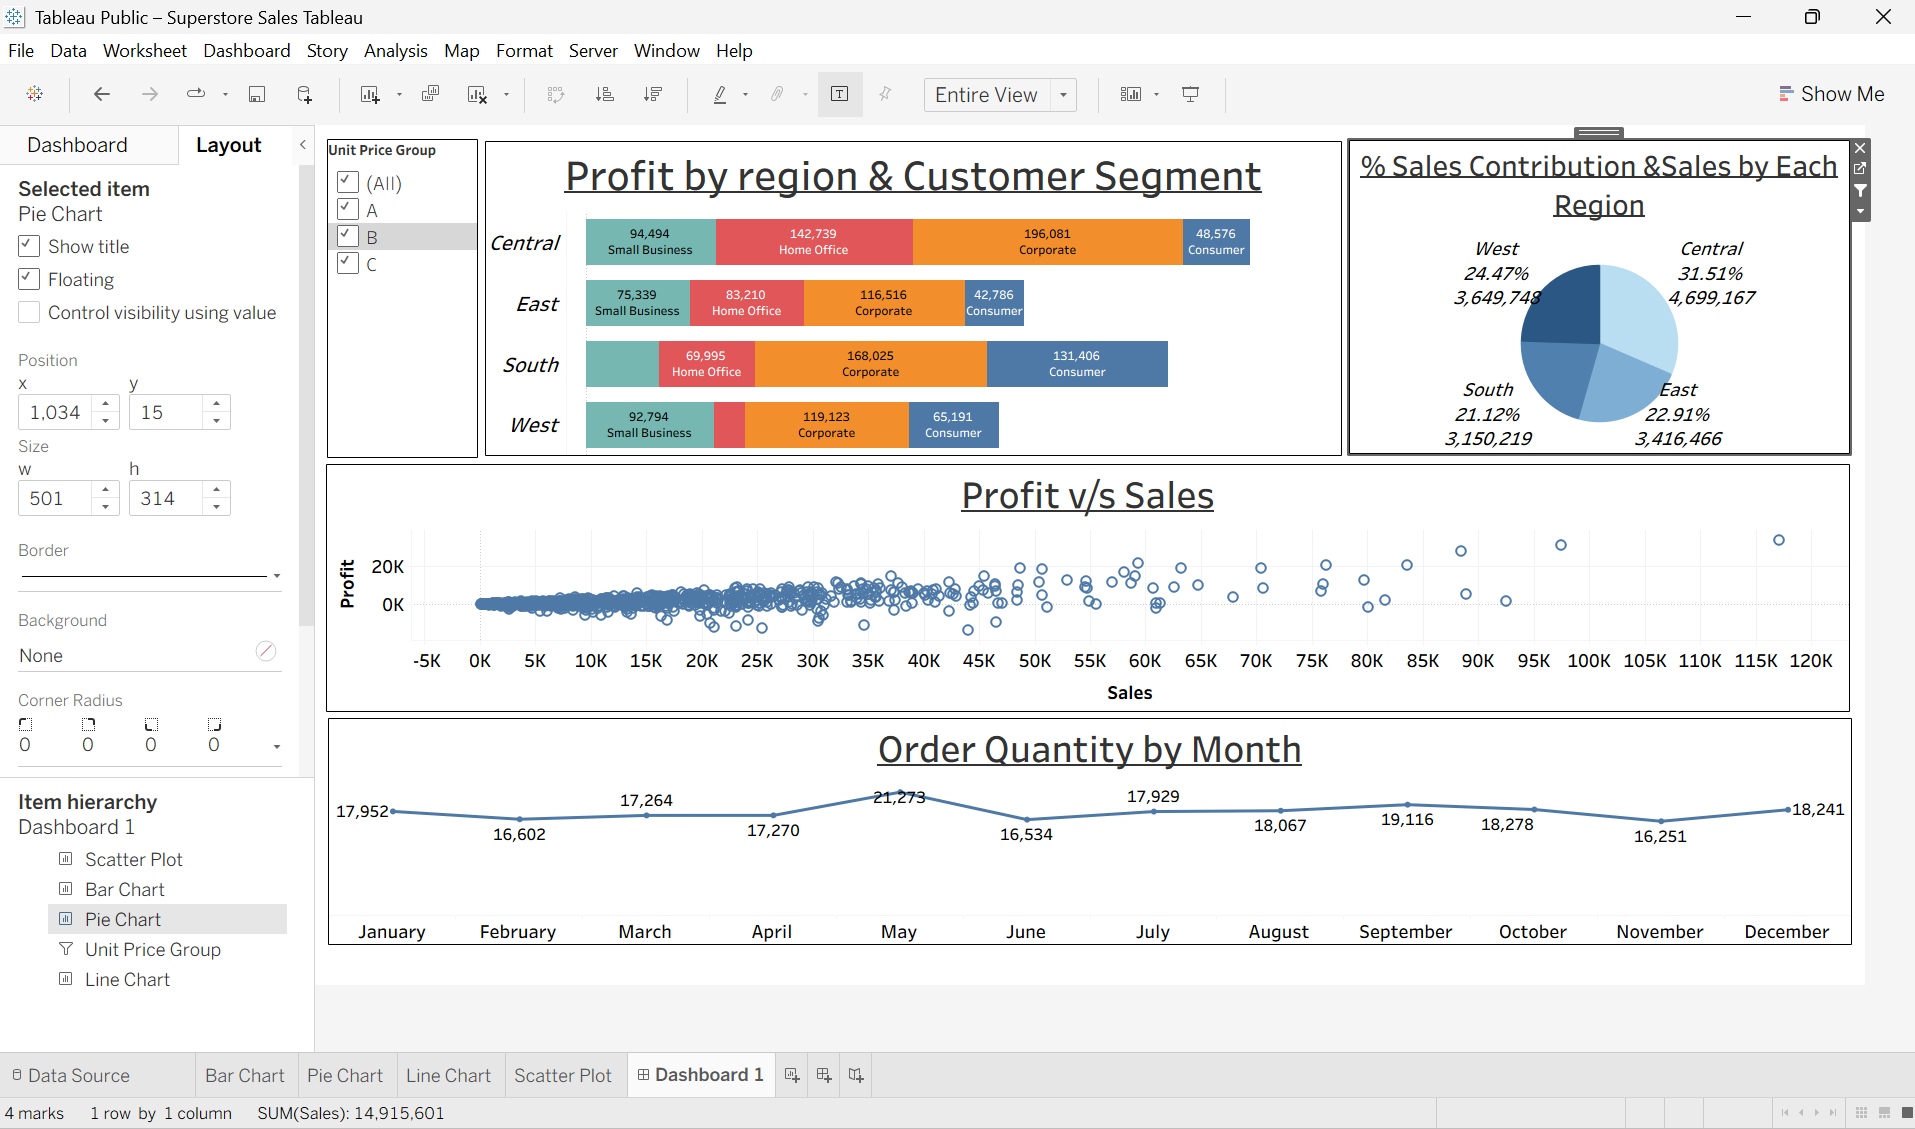

This screenshot's page, from the dashboard's own definition file:
{"tool":"tableau","page":{"name":"Dashboard 1","canvas":[1000,1000],"units":"permille","ordinal":0},"visuals":[{"type":"filter","title":"Line Chart","param":"[federated.1lfl0ps1j1u44z1c3gzv013r6j6d].[none:Calculation_0435709677252608:nk]","box":[7.7,16.3,97.4,370.9]},{"type":"worksheet","title":"Pie Chart","mark":"Pie","box":[667.1,17.4,323.2,365.1]},{"type":"worksheet","title":"Bar Chart","mark":"Automatic","rows":["Region"],"cols":["Profit"],"box":[109.7,18.6,552.9,366.3]},{"type":"worksheet","title":"Scatter Plot","mark":"Automatic","rows":["Profit"],"cols":["Sales"],"box":[7.1,394.2,983.2,288.4]},{"type":"worksheet","title":"Line Chart","mark":"Line","rows":["Order Quantity"],"cols":["Order Date"],"box":[8.4,689.5,983.2,263.9]}]}

Visuals, with their boxes on the dashboard's canvas, which has no fixed pixel size, in thousandths of its width and height (x1, y1, x2, y2). These are canvas units, not pixel positions in the 1915x1129 screenshot, which may show the page scaled, cropped or inside an application window:
"Line Chart" filter: crop(8, 16, 105, 387)
"Pie Chart" worksheet (Pie marks): crop(667, 17, 990, 382)
"Bar Chart" worksheet: crop(110, 19, 663, 385)
"Scatter Plot" worksheet: crop(7, 394, 990, 683)
"Line Chart" worksheet (Line marks): crop(8, 690, 992, 953)
